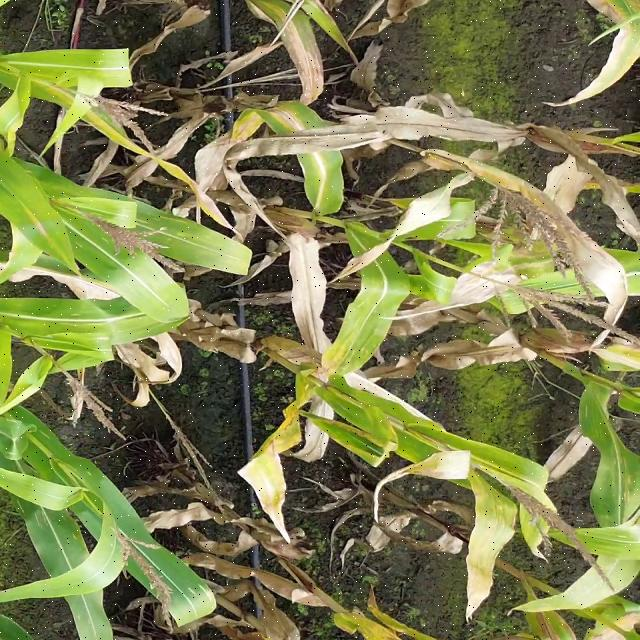gray-leaf-spot: (339, 301, 394, 385), (590, 437, 638, 529), (123, 199, 205, 247), (164, 577, 226, 621)
northern-leaf-blight: (252, 376, 320, 519), (464, 478, 518, 626), (271, 102, 337, 171)
southern-leaf-blight: (38, 512, 86, 566)
